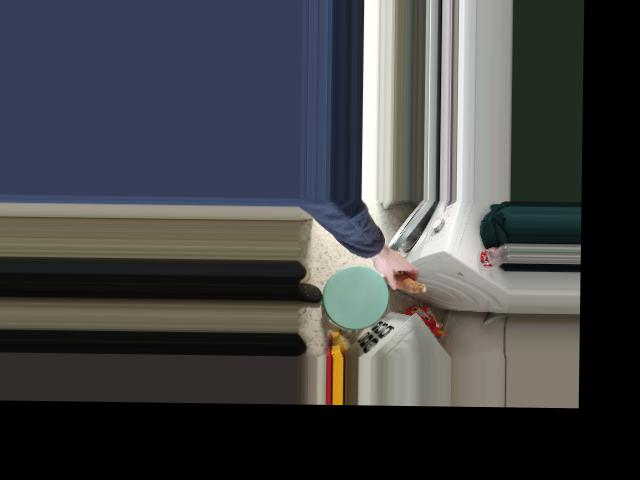sweet_potato: (373, 263, 425, 292)
